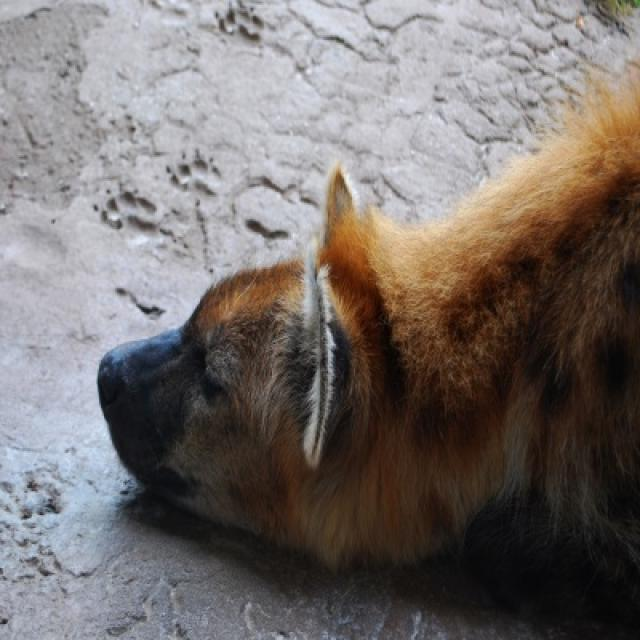hyena: (96, 53, 638, 635)
